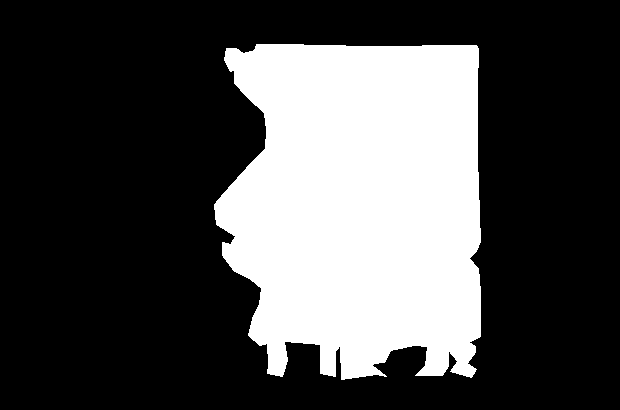type2: (213, 40, 482, 380)
